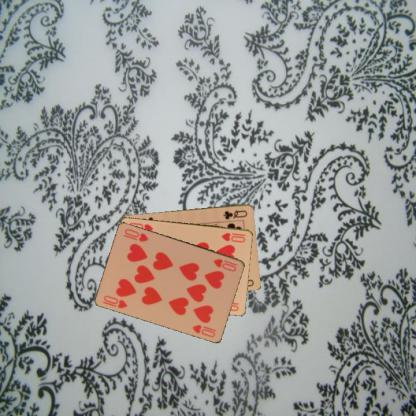10h: (101, 292, 129, 310), (211, 256, 239, 273), (219, 230, 247, 244)
Qc: (221, 207, 248, 220)
